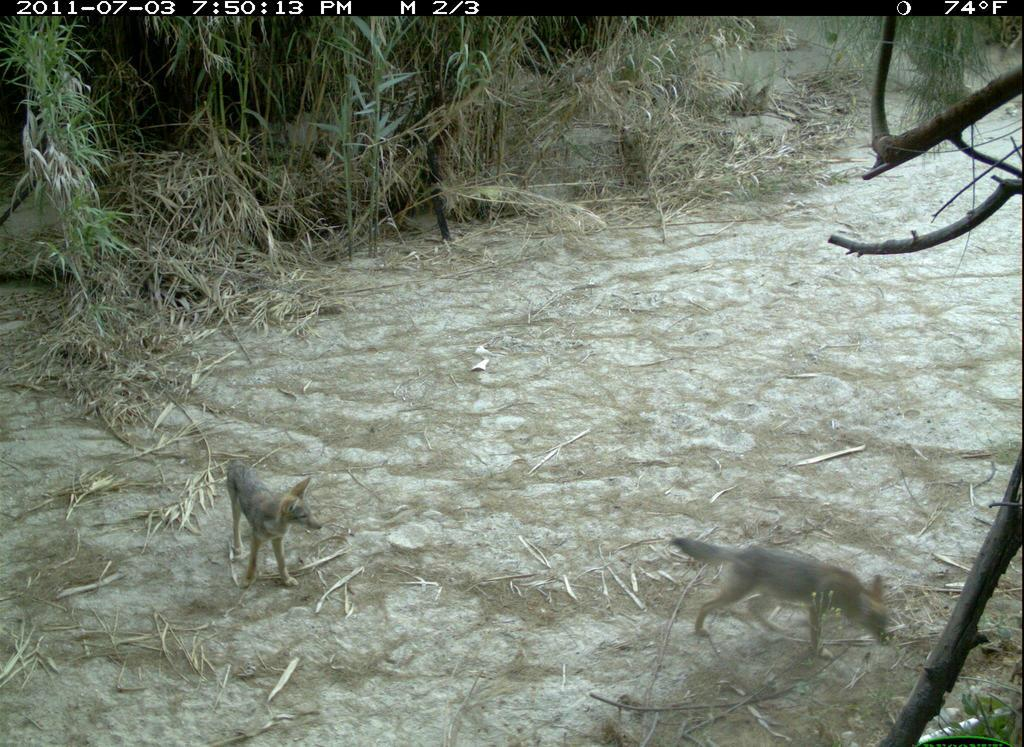coyote: (652, 520, 903, 667), (217, 450, 332, 607)
